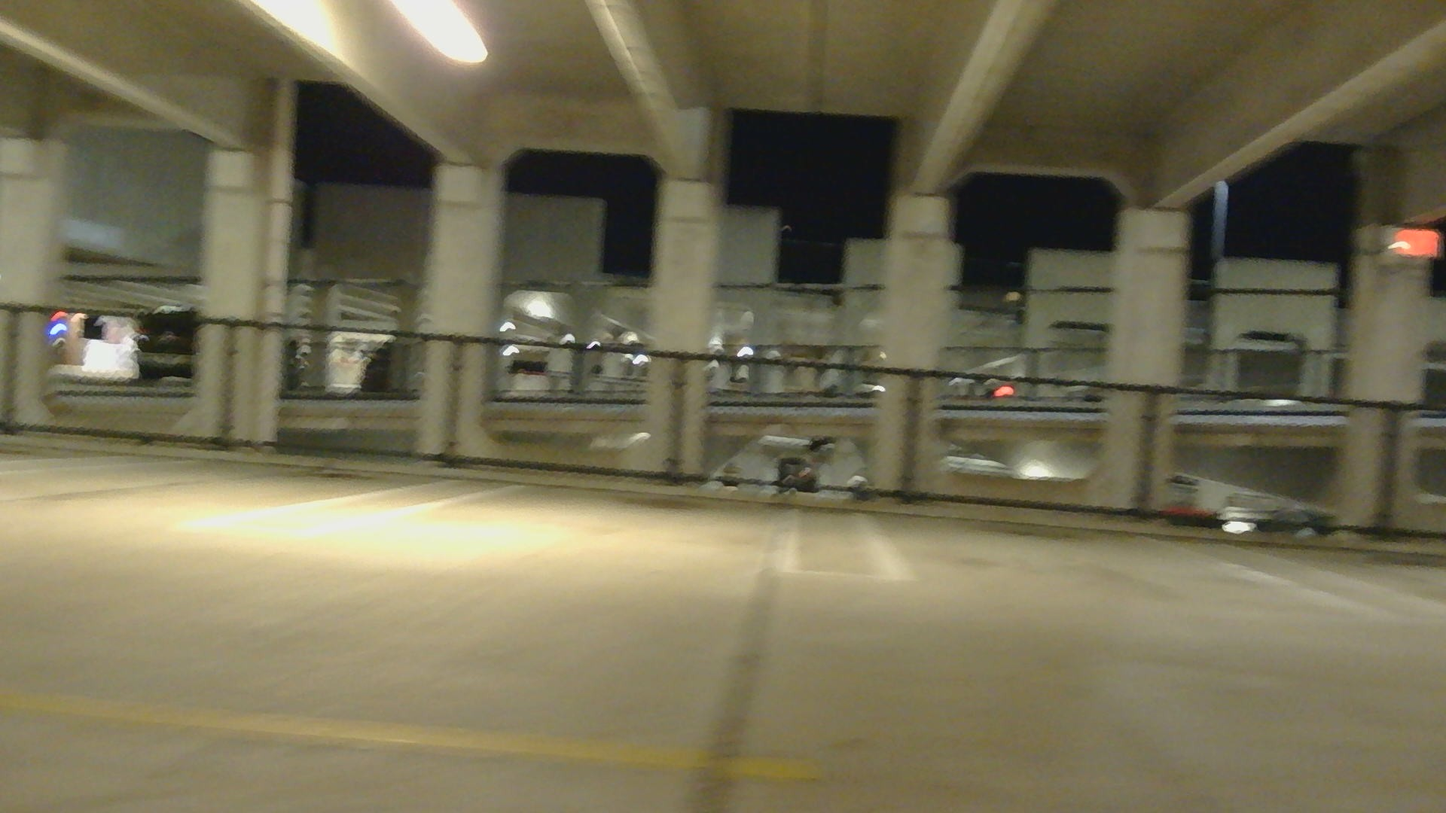empty_spot: (820, 425, 1430, 620), (286, 400, 849, 564), (0, 388, 482, 537), (1158, 397, 1446, 616)
